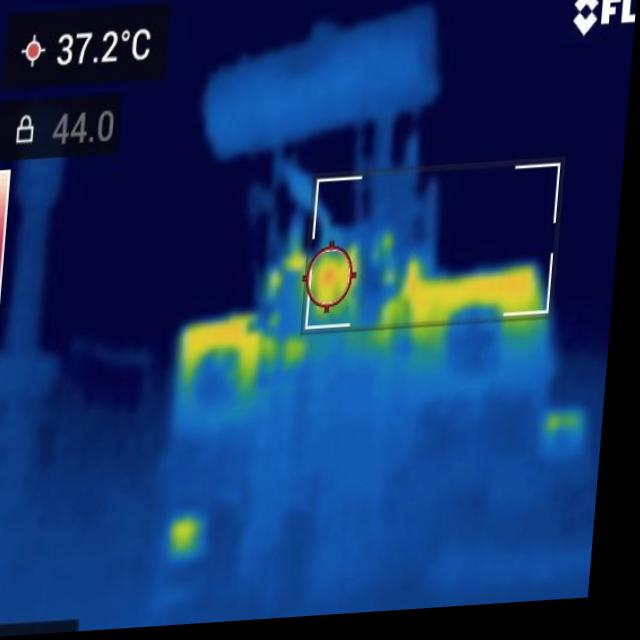Normal: (394, 254, 559, 340), (164, 303, 279, 392), (277, 232, 379, 313)
